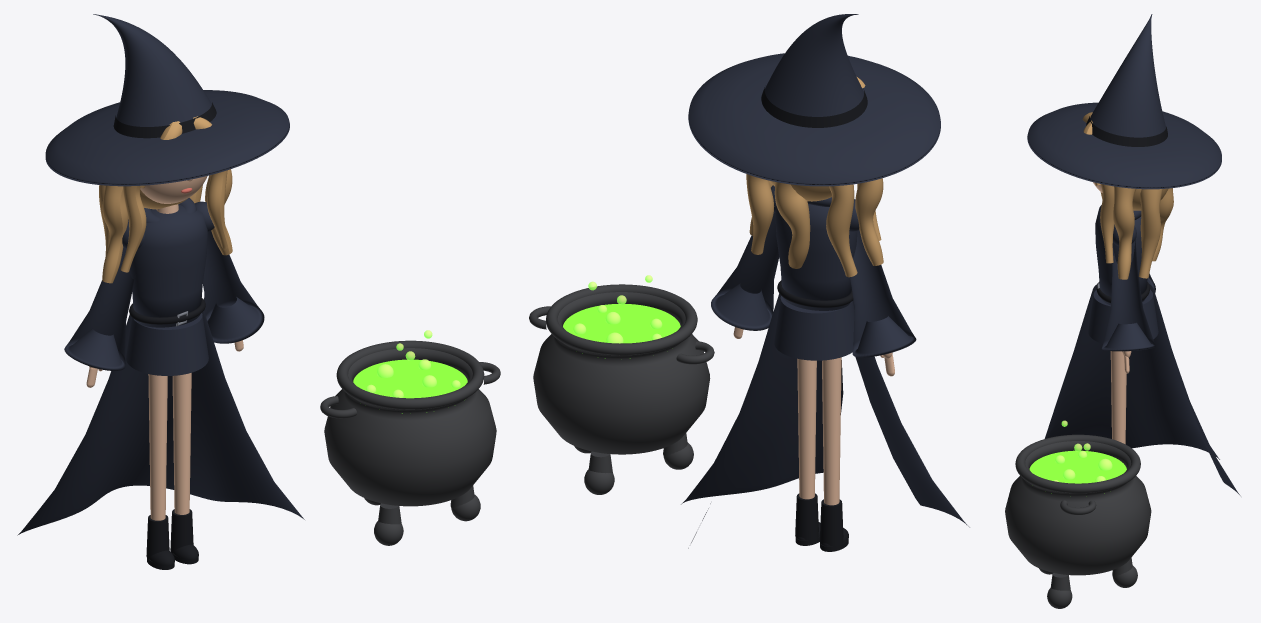
The model's file is witch-figurine.glb.
3 views of the same model, side by side, from view 1: azimuth 30°, elevation 25°; view 2: azimuth 150°, elevation 25°; view 3: azimuth 270°, elevation 25° (orthographic). The views are drawn at different scales.
Visible parts, largest first — view 1: robe_skirt, cauldron_pot, hat_brim, bodice, hat_cone, sleeve_R, sleeve_L, underdress, cauldron_rim, potion_surface, leg_R, leg_L (+8 smaller); view 2: hat_brim, cauldron_pot, robe_skirt, hat_cone, bodice, sleeve_R, sleeve_L, underdress, cauldron_rim, potion_surface, leg_R, leg_L (+9 smaller); view 3: robe_skirt, cauldron_pot, hat_brim, hat_cone, sleeve_L, cauldron_rim, potion_surface, lock_mid_L, lock_back_L, bodice, leg_L, cauldron (+4 smaller).
Part boxes in pixels (x1,y1,x2,y2): robe_skirt: [17, 311, 304, 535]; cauldron_pot: [324, 348, 496, 506]; hat_brim: [45, 90, 289, 186]; bodice: [129, 204, 207, 327]; hat_cone: [93, 14, 211, 126]; sleeve_R: [64, 247, 135, 370]; sleeve_L: [202, 231, 264, 343]; underdress: [126, 313, 208, 375]; cauldron_rim: [336, 340, 484, 409]; potion_surface: [353, 359, 467, 413]; leg_R: [148, 374, 167, 520]; leg_L: [172, 373, 191, 514]; hat_brim: [688, 53, 940, 186]; cauldron_pot: [533, 292, 710, 454]; robe_skirt: [681, 293, 969, 548]; hat_cone: [764, 14, 863, 116]; bodice: [775, 204, 857, 310]; sleeve_R: [850, 230, 916, 357]; sleeve_L: [711, 213, 779, 330]; underdress: [774, 296, 854, 360]; cauldron_rim: [546, 284, 697, 355]; potion_surface: [563, 304, 680, 358]; leg_R: [822, 357, 841, 505]; leg_L: [797, 358, 816, 499]; robe_skirt: [1044, 284, 1240, 495]; cauldron_pot: [1005, 441, 1151, 575]; hat_brim: [1027, 102, 1221, 189]; hat_cone: [1090, 14, 1166, 137]; sleeve_L: [1102, 239, 1155, 351]; cauldron_rim: [1015, 434, 1140, 493]; potion_surface: [1029, 450, 1126, 493]; lock_mid_L: [1113, 186, 1136, 279]; lock_back_L: [1138, 189, 1163, 278]; bodice: [1095, 205, 1147, 305]; leg_L: [1110, 351, 1126, 444]; cauldron: [1039, 557, 1137, 608].
Bounding box in the file's own units: 0.9266 × 1.13 × 0.5356.
